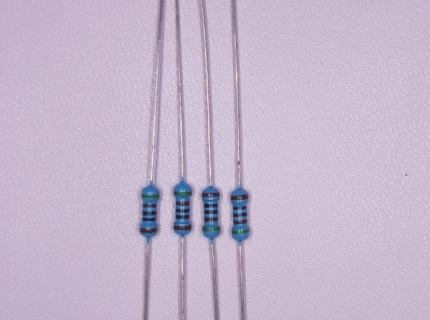Black band: (143, 211, 157, 215), (176, 215, 190, 219), (204, 210, 218, 214), (204, 204, 218, 208), (233, 213, 247, 217), (176, 209, 189, 213), (142, 218, 156, 221), (233, 207, 247, 210)
Brown band: (140, 228, 158, 234), (231, 195, 249, 201), (173, 225, 191, 230), (202, 193, 220, 197), (205, 217, 218, 222), (143, 204, 157, 208), (176, 201, 190, 205), (233, 220, 247, 224)
Green band: (232, 229, 249, 235), (203, 227, 220, 232), (174, 191, 191, 196), (142, 194, 159, 198)
